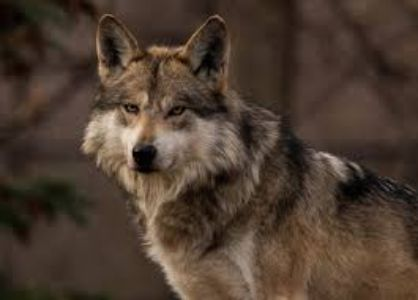wolf: (82, 4, 407, 296)
